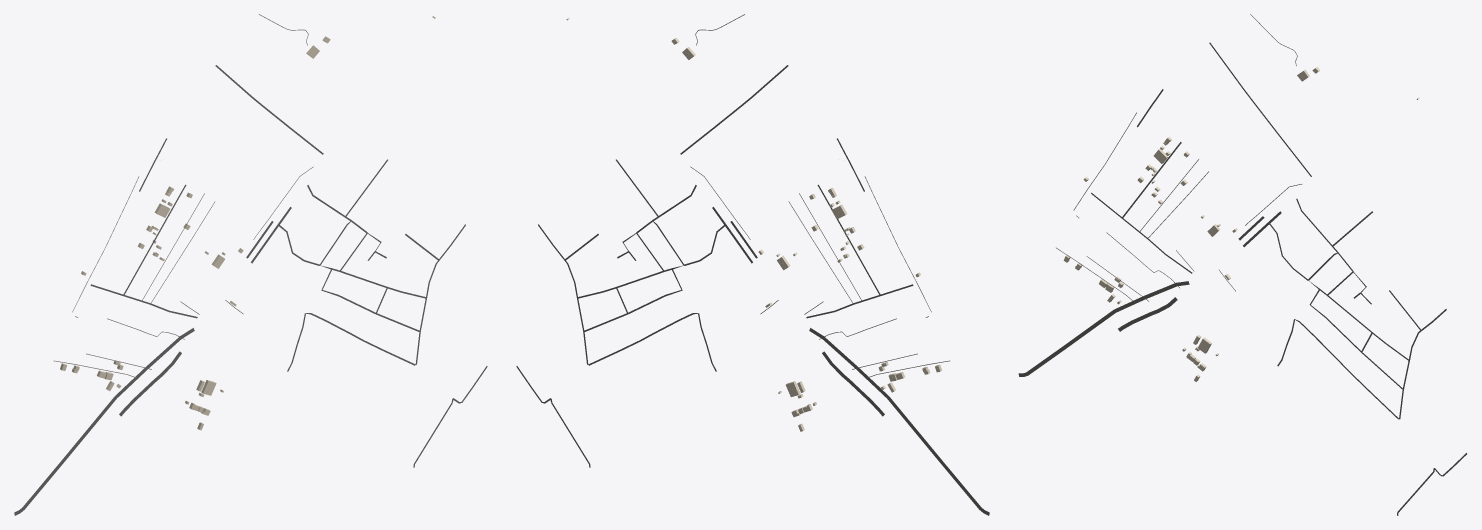
Rendered from historic-palestine-02_20_3441_3145.glb.
The picture shows the model from 3 angles, left to right: view 1: azimuth 30°, elevation 25°; view 2: azimuth 150°, elevation 25°; view 3: azimuth 330°, elevation 25°; orthographic projection. The views are drawn at different scales.
Visible parts, largest first — view 1: Road .013; view 2: Road .013; view 3: Road .013.
Part boxes in pixels (<box>): Road .013: <box>14,328,194,515</box>; Road .013: <box>809,328,989,515</box>; Road .013: <box>1018,281,1189,376</box>.
Bounding box in the file's own units: 1079 × 1070 × 9.09.
